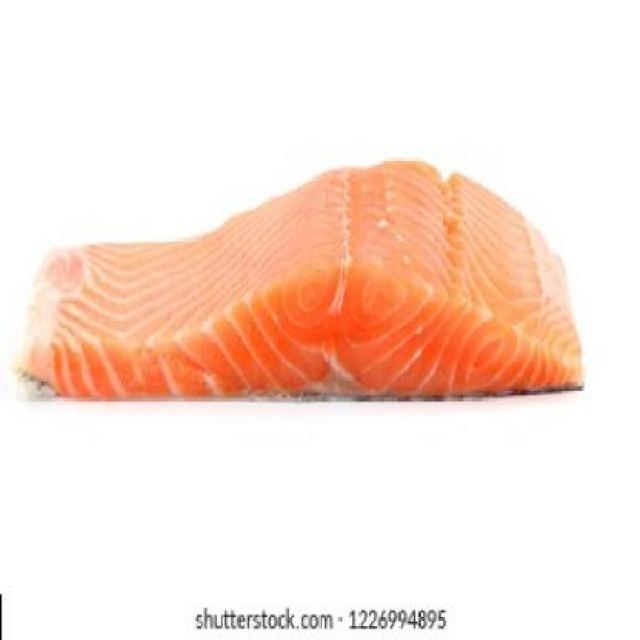salmon: (18, 160, 634, 443)
